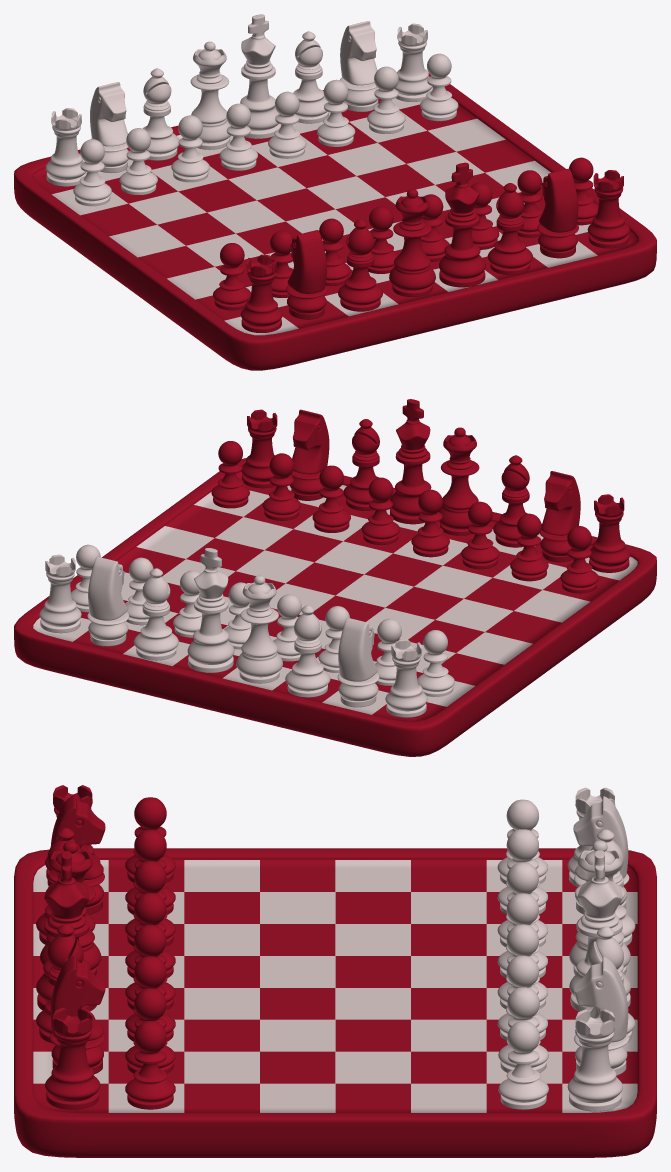
Rendered from real-time_reflection_demo_chess_board_by_al.glb.
3 renders of one model, top to bottom at view 1: azimuth 30°, elevation 25°; view 2: azimuth 150°, elevation 25°; view 3: azimuth 270°, elevation 25°, orthographic. The views are drawn at different scales.
Visible parts, largest first — view 1: Object_36, Object_19, Object_35, Object_20, Object_7, Object_33, Object_22, Object_6, Object_4, Object_16, Object_34, Object_21 (+22 smaller); view 2: Object_36, Object_19, Object_7, Object_6, Object_35, Object_4, Object_16, Object_20, Object_33, Object_22, Object_5, Object_17 (+22 smaller); view 3: Object_36, Object_19, Object_32, Object_15, Object_4, Object_7, Object_33, Object_35, Object_24, Object_18, Object_22, Object_16 (+22 smaller).
Boxes of the visible parts, x1,y1,x2,y2 form: Object_36: (14,73,656,370); Object_19: (52,87,597,335); Object_35: (439,162,485,287); Object_20: (389,189,435,296); Object_7: (240,14,281,138); Object_33: (537,168,578,258); Object_22: (286,230,327,319); Object_6: (190,41,230,149); Object_4: (340,21,378,111); Object_16: (90,82,128,173); Object_34: (487,183,532,274); Object_21: (338,219,383,311); Object_36: (14,458,656,756); Object_19: (33,485,637,714); Object_7: (187,548,234,672); Object_6: (236,575,282,683); Object_35: (390,399,431,524); Object_4: (87,556,129,646); Object_16: (337,617,379,707); Object_20: (438,427,479,535); Object_33: (289,409,329,500); Object_22: (539,471,580,562); Object_5: (133,568,178,660); Object_17: (285,605,330,697); Object_36: (14,848,656,1157); Object_19: (33,860,637,1112); Object_32: (45,1007,100,1109); Object_15: (567,1009,622,1111); Object_4: (573,956,629,1075); Object_7: (569,850,630,1011); Object_33: (49,955,105,1074); Object_35: (36,851,96,1010); Object_24: (125,1021,175,1109); Object_18: (498,1021,548,1109); Object_22: (50,794,105,914); Object_16: (573,796,629,914).
Size of the model in its own units: 17.01 by 5.49 by 17.01.
